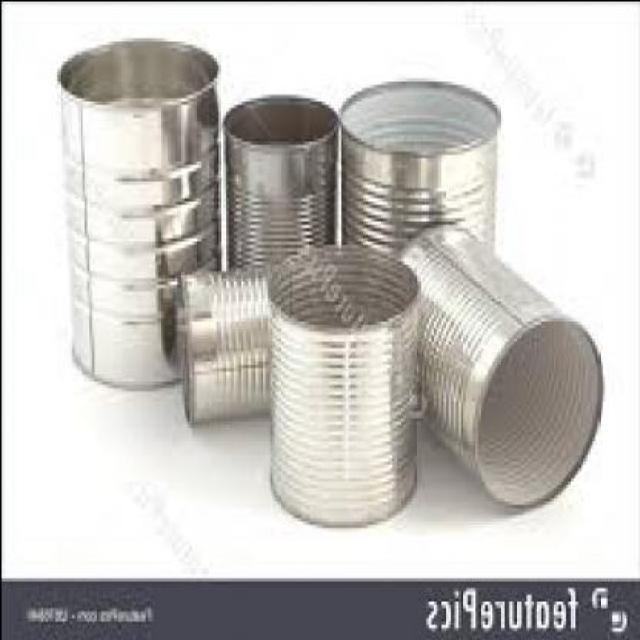METAL: (379, 216, 606, 507), (58, 33, 220, 390), (271, 243, 418, 520), (181, 260, 393, 426), (339, 73, 504, 267), (229, 90, 340, 284)
